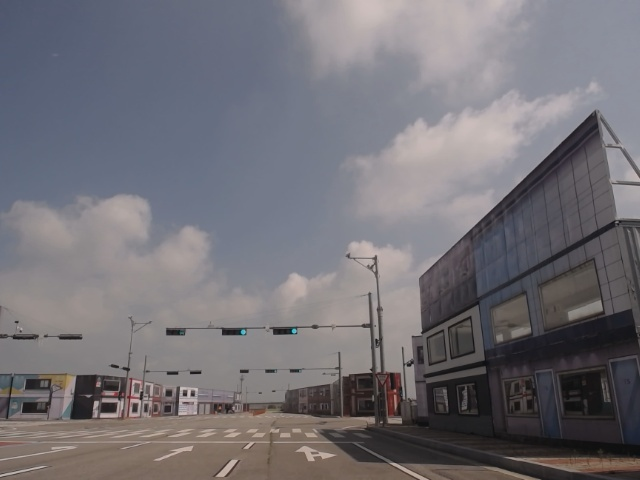straight_green_4: (222, 329, 248, 337), (274, 328, 298, 335)
